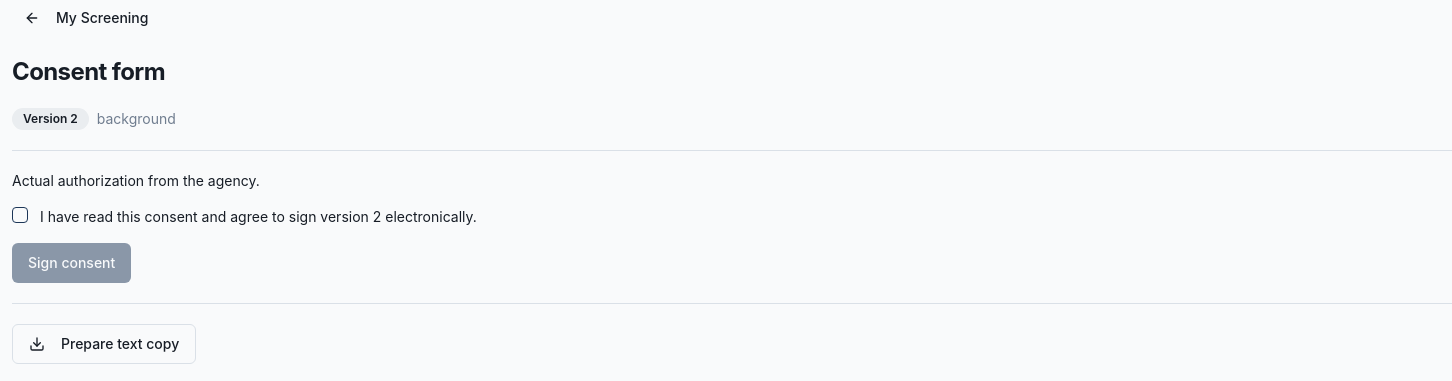
Test case: worker consent actions › prepares a versioned text copy only after the download is audited
Click the button "Prepare text copy": click(104, 344) 12,324 -> 196,364
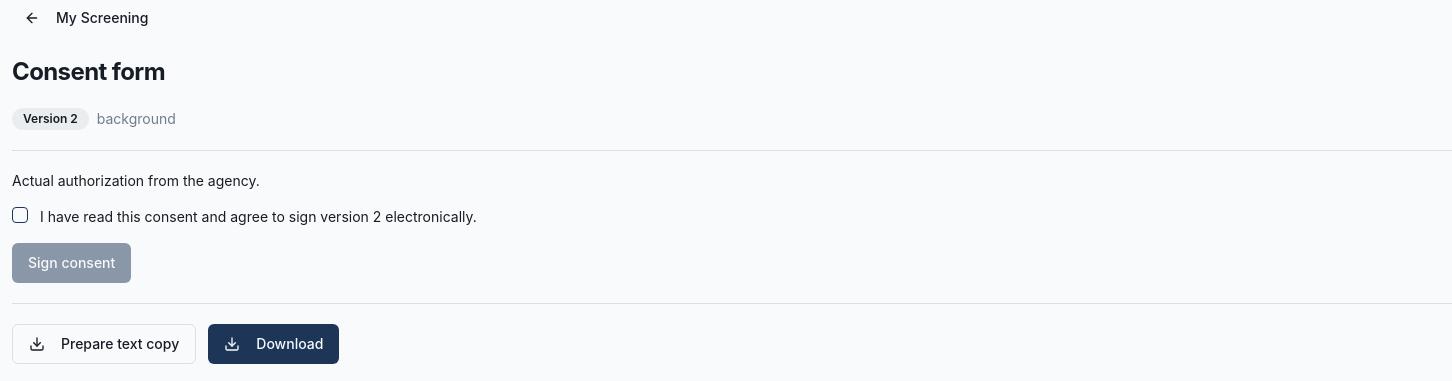
Check: the button "Download" is shown, box 208,324 -> 339,364
